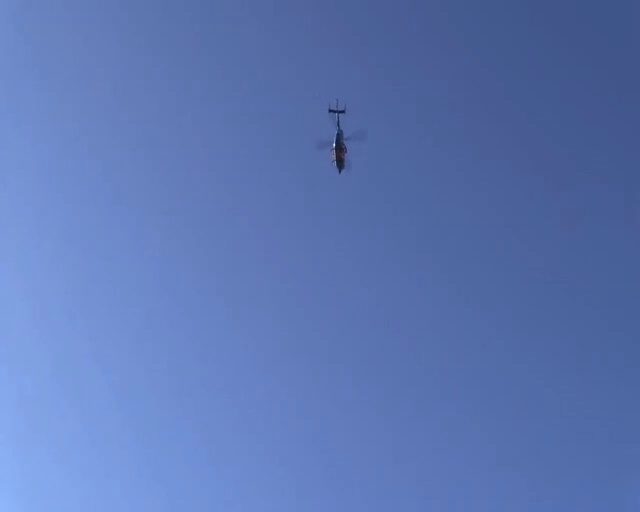HELICOPTER: (315, 98, 367, 175)
